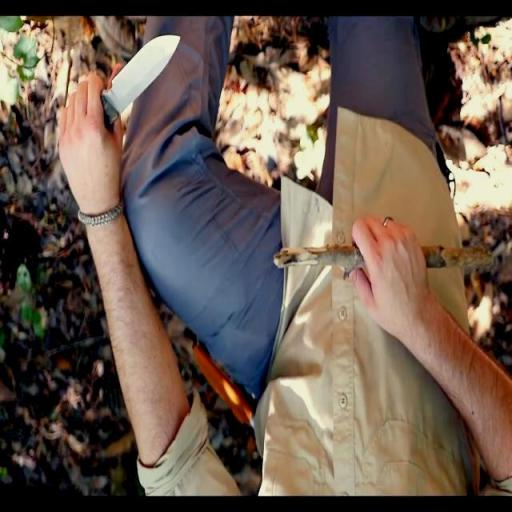knife: (57, 28, 186, 158)
